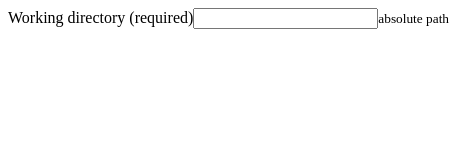
it: Input (components/ui.tsx:196) › forwards ref and every attribute, so labels and limits keep working
Type "/work/area" into the field labelled "Working directory (required)" at coordinates (286, 18), box [193,8,378,29]
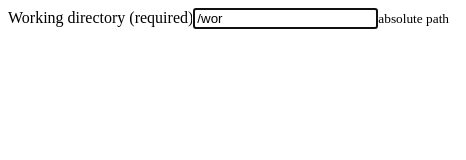
Expected: the field labelled "Working directory (required)" holds "/wor", [193,8,378,29]
